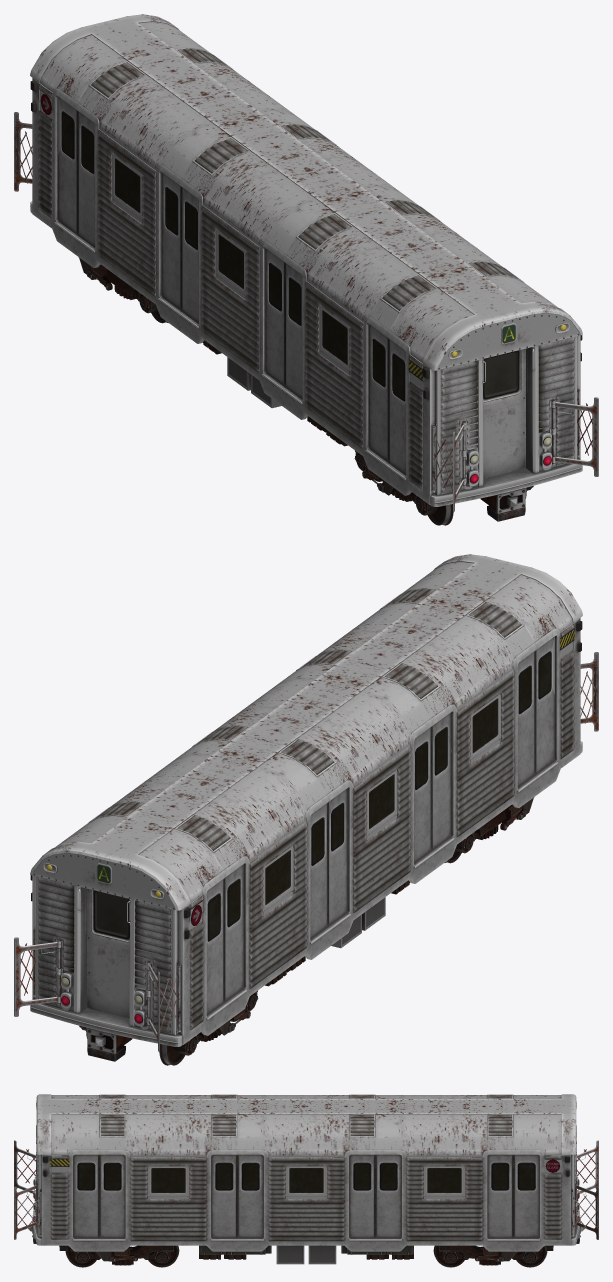
3 views of the same model, one above another, from view 1: azimuth 30°, elevation 25°; view 2: azimuth 150°, elevation 25°; view 3: azimuth 270°, elevation 25° (orthographic). The views are drawn at different scales.
Visible parts, largest first — view 1: Body, Undercarriage; view 2: Body, Undercarriage; view 3: Body, Undercarriage.
Boxes of the visible parts, bbox=[...] form: Body: bbox=[14, 14, 598, 511]; Undercarriage: bbox=[78, 257, 533, 525]; Body: bbox=[14, 554, 598, 1051]; Undercarriage: bbox=[79, 797, 534, 1065]; Body: bbox=[14, 1094, 598, 1251]; Undercarriage: bbox=[28, 1219, 584, 1267].
Bounding box in the file's own units: 315 × 1524 × 428.
Materials: 2 (2 with a texture image).
